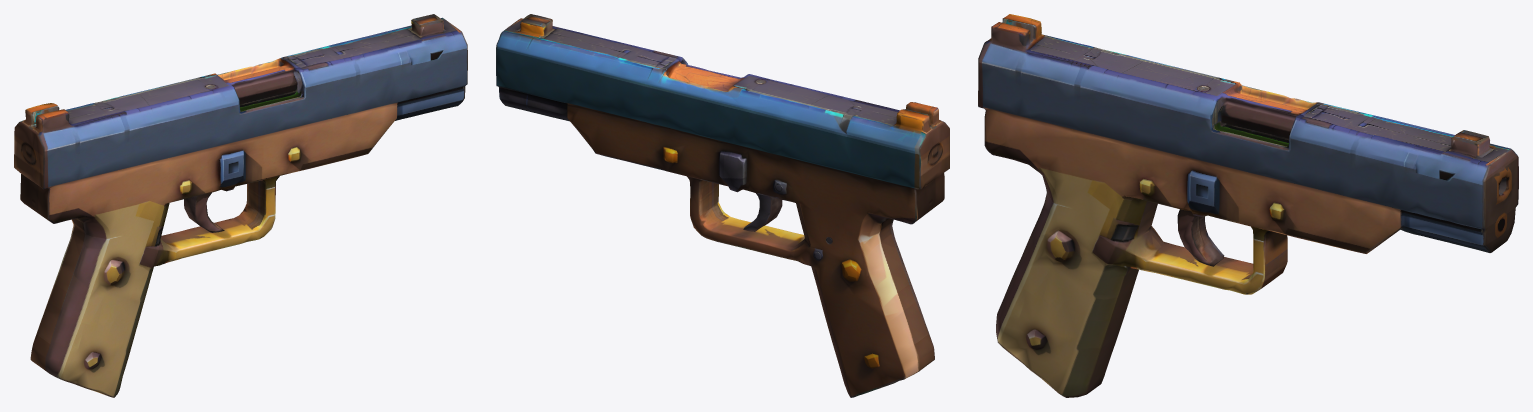
File: pistol03.glb
3 views of the same model, side by side, from view 1: azimuth 30°, elevation 25°; view 2: azimuth 150°, elevation 25°; view 3: azimuth 330°, elevation 25° (orthographic). The views are drawn at different scales.
Size of the model in its own units: 2.01 by 1.32 by 0.2587.
1 material, 1 textured.
